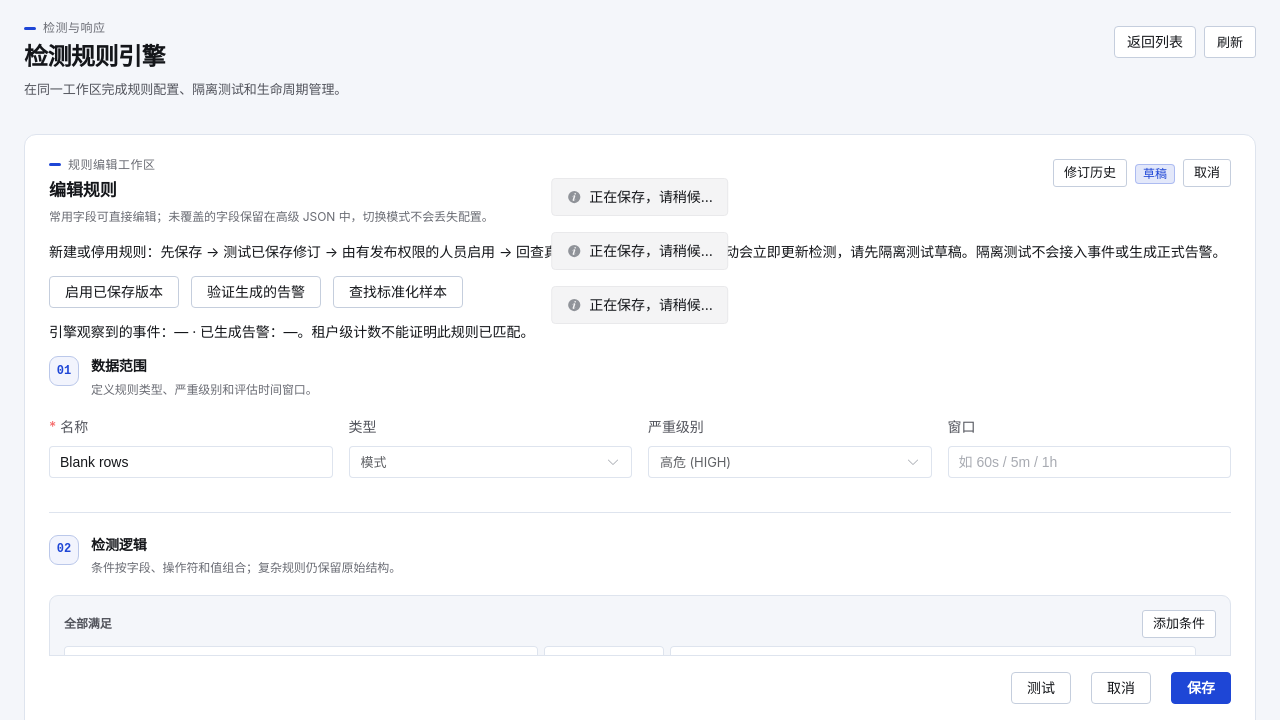
it: rule editor identity › prunes blank condition rows, saves, and states how many were dropped
This screenshot has width=1280, height=720.
Click the button "保存" at (1201, 688), box [1171,672,1231,704]
(page scrolled)
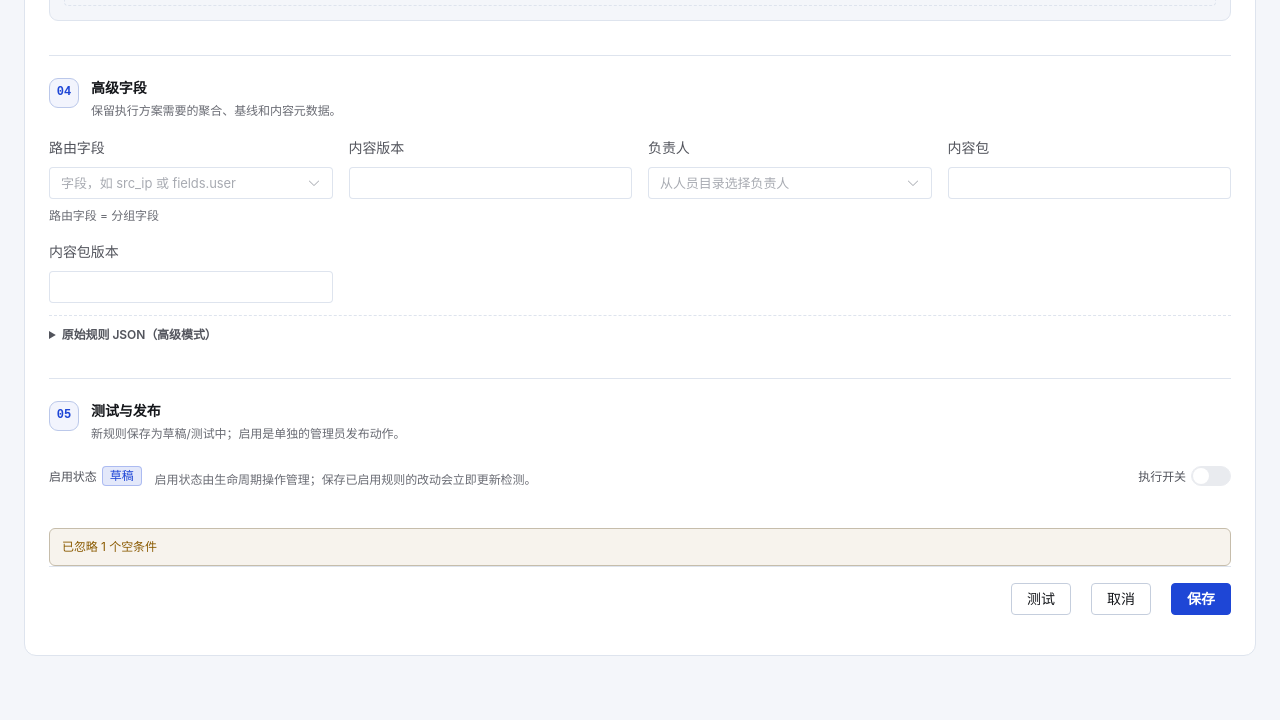
Result: the message with class "notice" reads "已忽略 1 个空条件" at [62,540,157,554]
